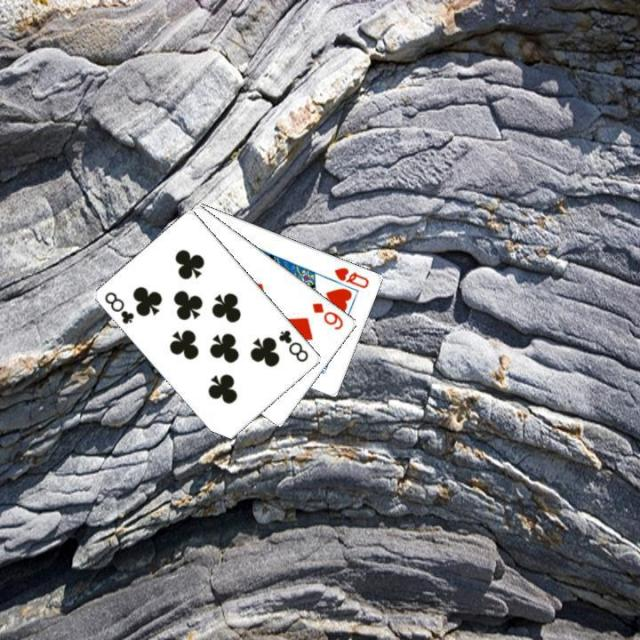6D: (308, 298, 346, 332)
8C: (275, 326, 310, 364), (101, 288, 136, 326)
QH: (331, 263, 372, 290)
